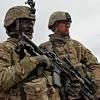gun: (15, 30, 97, 94)
uniform: (45, 39, 100, 99), (2, 40, 43, 100)
